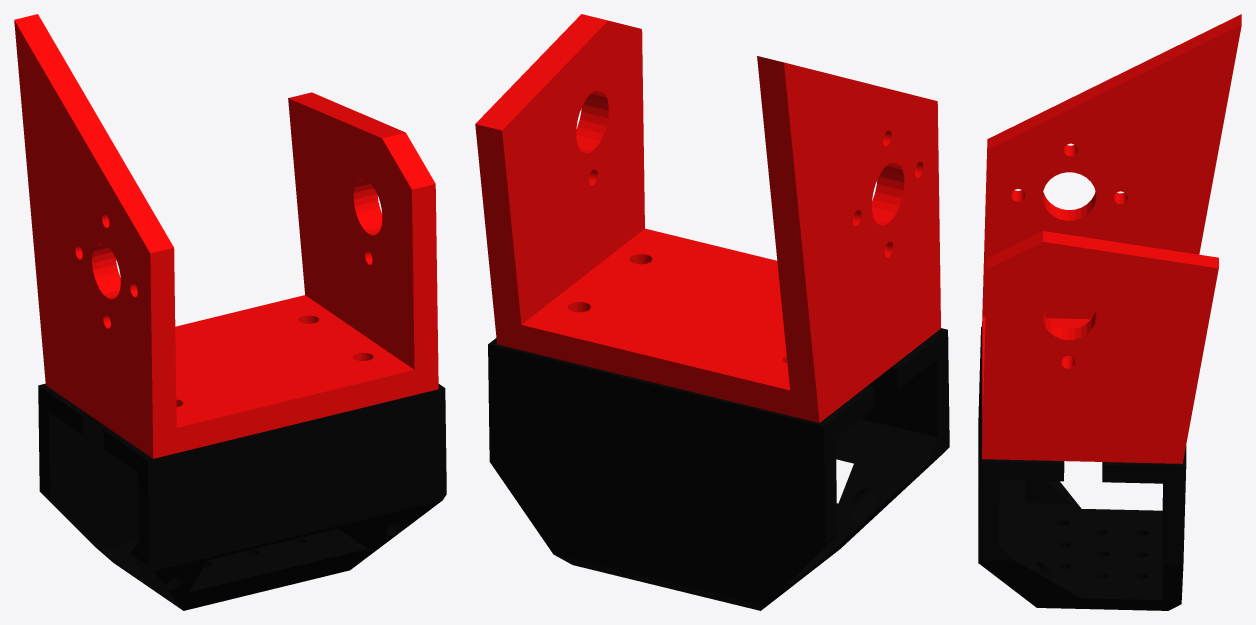
Rendered from Left_forearm.dae.
The picture shows the model from 3 angles, left to right: view 1: azimuth 30°, elevation 25°; view 2: azimuth 150°, elevation 25°; view 3: azimuth 270°, elevation 25°; orthographic projection. The views are drawn at different scales.
Parts seen in each view (by area): view 1: left_forearm; view 2: left_forearm; view 3: left_forearm.
Boxes of the visible parts, x1,y1,x2,y2 form: left_forearm: (14, 14, 446, 610); left_forearm: (475, 14, 949, 610); left_forearm: (978, 14, 1241, 610).
Bounding box in the file's own units: 0.05 × 0.0411 × 0.085.
